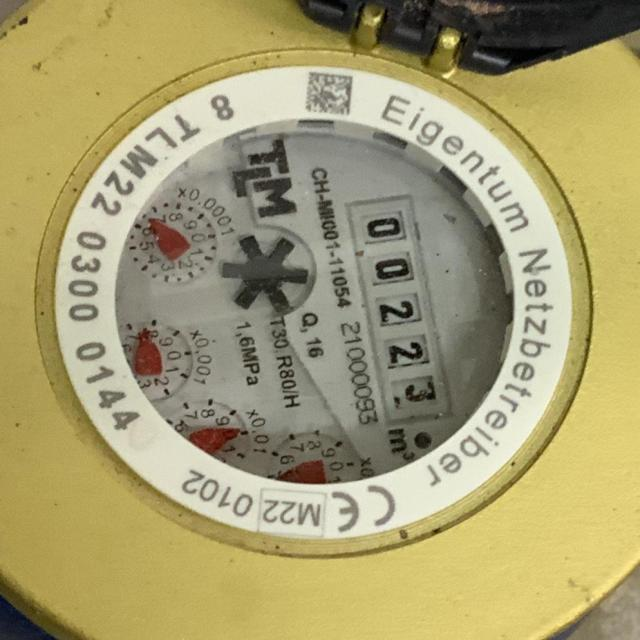gaz_meter: (113, 116, 515, 486)
indication: (343, 196, 452, 423)
